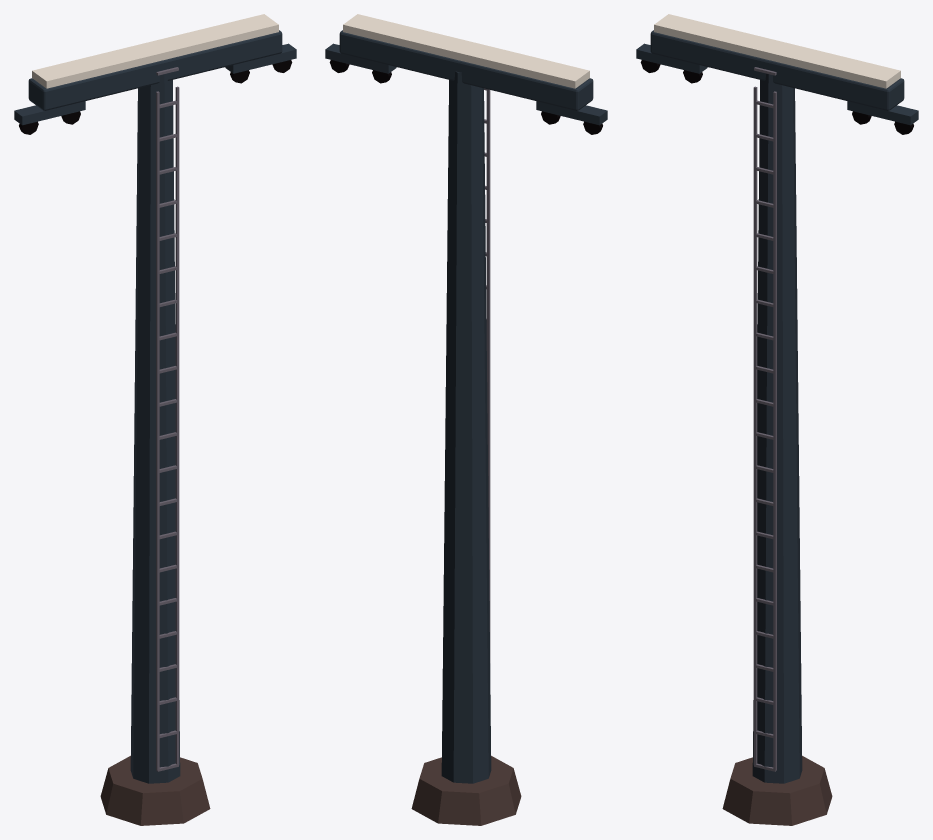
File: rs_lift_tower.glb
3 views of the same model, side by side, from view 1: azimuth 30°, elevation 25°; view 2: azimuth 150°, elevation 25°; view 3: azimuth 330°, elevation 25° (orthographic).
Parts seen in each view (by area): view 1: tower; view 2: tower; view 3: tower.
Boxes of the visible parts, x1,y1,x2,y2 form: tower: (14, 14, 296, 825); tower: (325, 14, 607, 825); tower: (636, 14, 918, 825).
Bounding box in the file's own units: 3.9 × 10.25 × 1.4.
